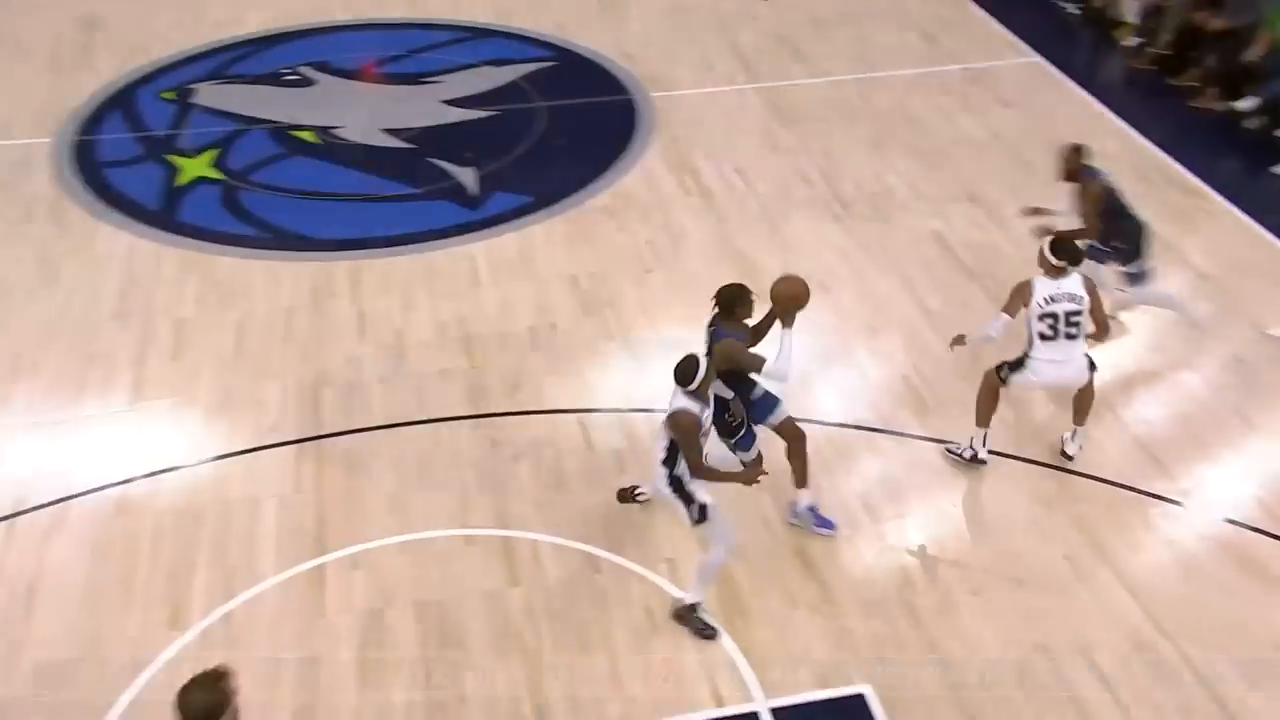ball: (765, 272, 814, 321)
